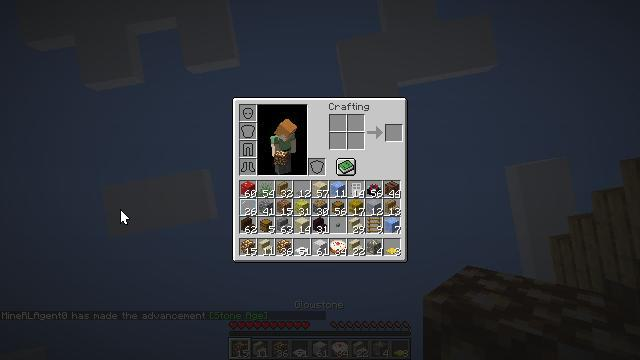cursor: (120, 209, 130, 225)
